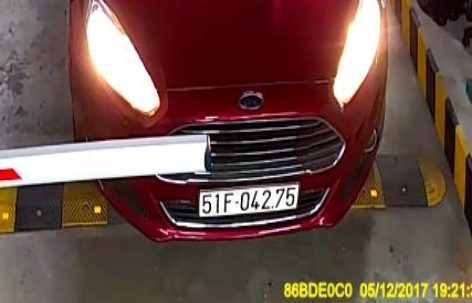plate: (196, 181, 303, 218)
